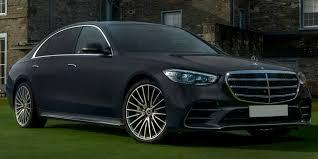mercedes: (250, 54, 258, 64)
